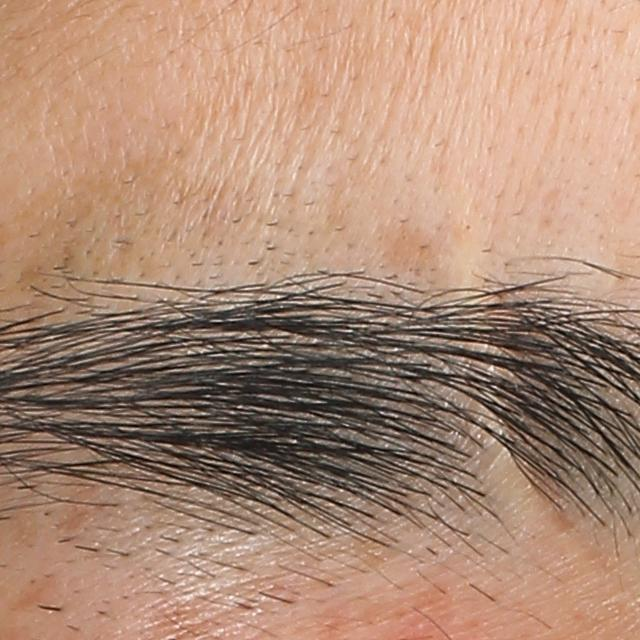melasma: (373, 225, 452, 281), (3, 568, 66, 613)
other: (438, 182, 590, 571)
